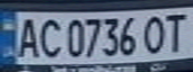0: (63, 16, 84, 58)
3: (100, 15, 124, 57)
6: (118, 14, 142, 56)
7: (81, 15, 103, 58)
A: (12, 15, 42, 60)
C: (36, 16, 63, 58)
O: (139, 12, 169, 55)
T: (160, 10, 190, 54)
